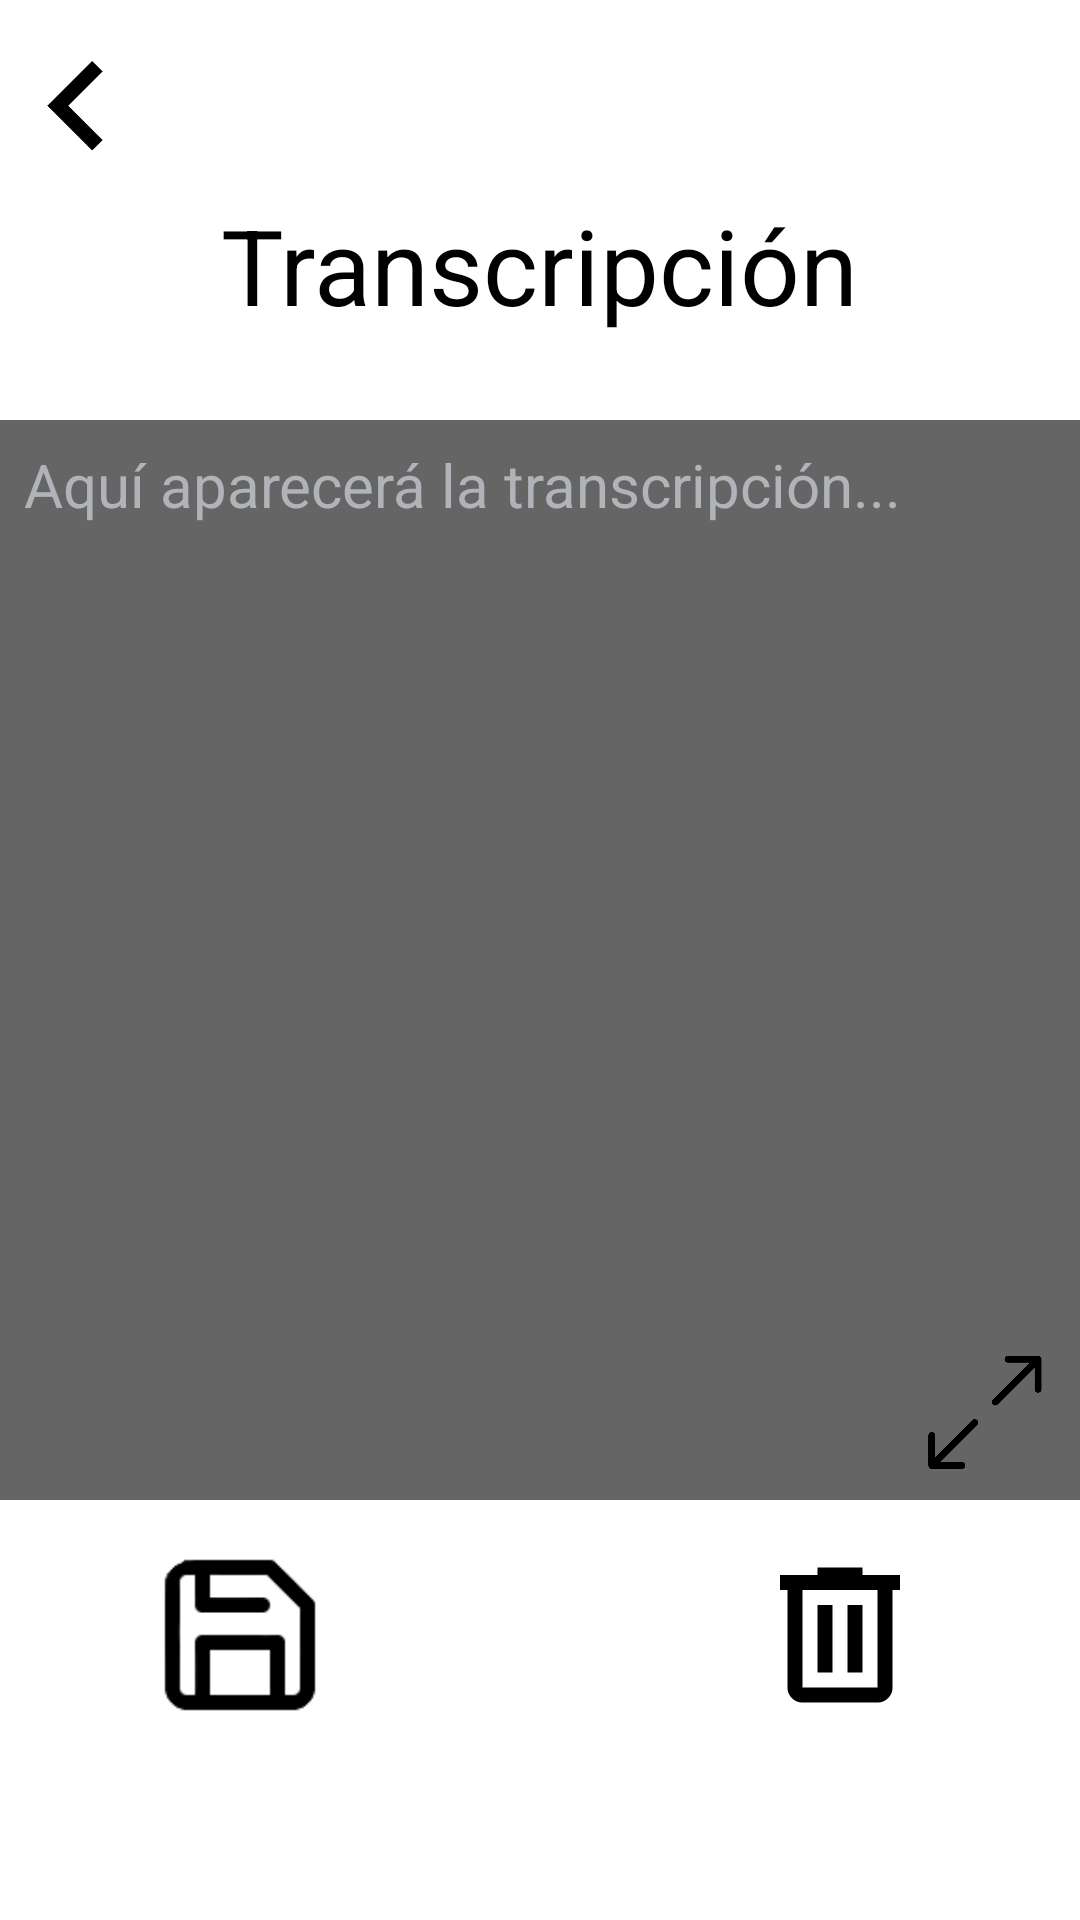

Where to tap for icons on this 1080px×1920px app screen, as point (x, y):
eliminar: point (840, 1635)
guardar: point (240, 1635)
pantalla completa: point (985, 1412)
retroceder: point (75, 105)
